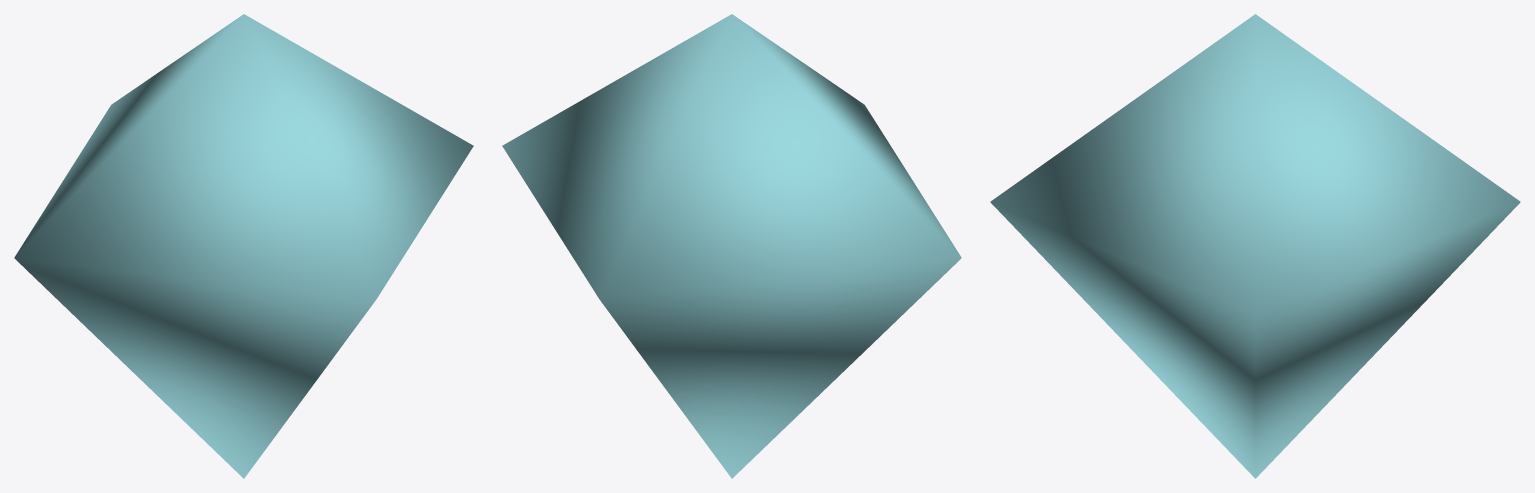
The model's file is crystal.fbx.
3 views of the same model, side by side, from view 1: azimuth 30°, elevation 25°; view 2: azimuth 150°, elevation 25°; view 3: azimuth 270°, elevation 25° (orthographic).
Visible parts, largest first — view 1: Cube.002; view 2: Cube.002; view 3: Cube.002.
Boxes of the visible parts, left/top/right/bottom form: Cube.002: left=14, top=14, right=473, bottom=478; Cube.002: left=502, top=14, right=961, bottom=478; Cube.002: left=990, top=14, right=1520, bottom=478.
Bounding box in the file's own units: 2.56 × 2.47 × 2.56.
